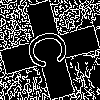C: (25, 25, 78, 71)
